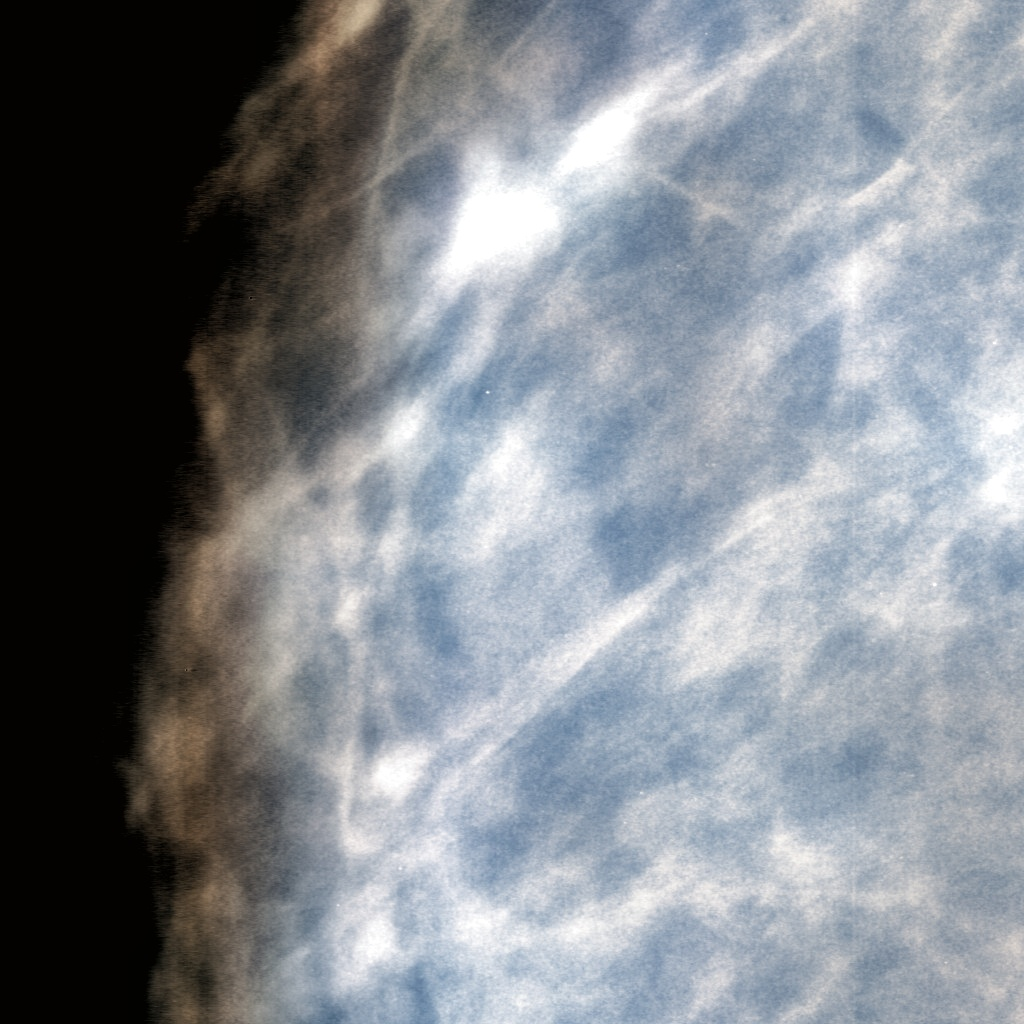tumor: (404, 391, 620, 633)
